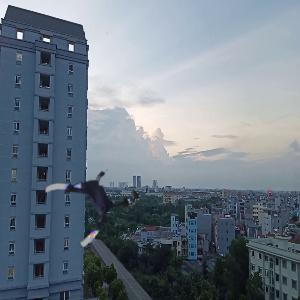drone: (48, 161, 127, 240)
